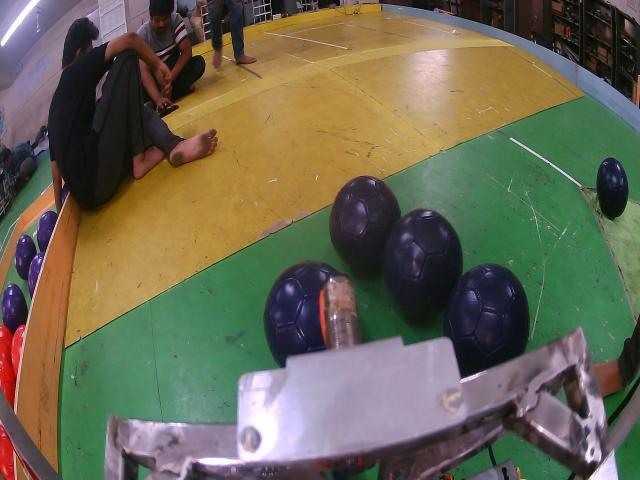jambhalya: (1, 283, 28, 333), (15, 235, 36, 280), (36, 210, 58, 252), (28, 252, 45, 298)
kaalyya: (444, 262, 529, 373), (382, 208, 462, 317), (264, 260, 339, 367), (330, 175, 401, 275), (596, 158, 629, 219)
